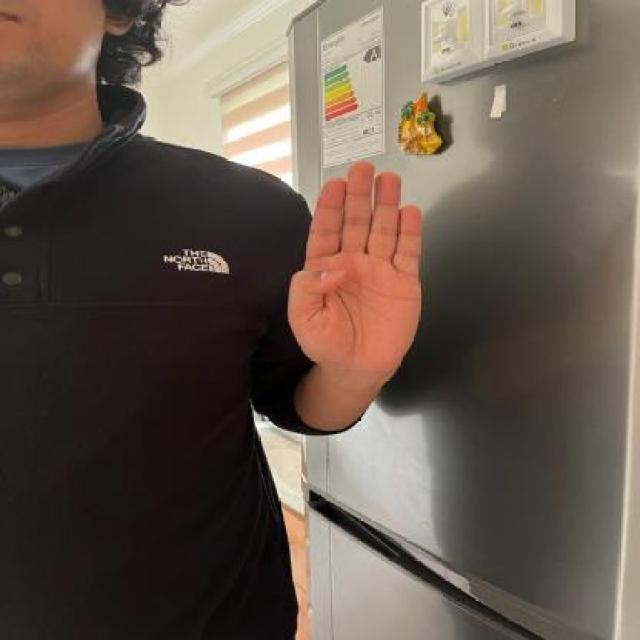B: (282, 154, 433, 383)
